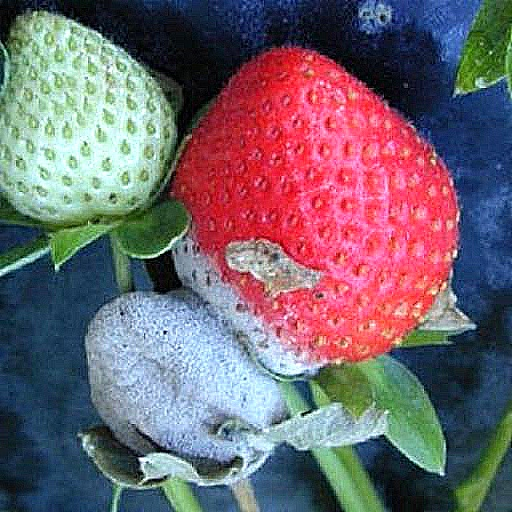Gray Mold: (123, 20, 440, 225), (159, 132, 342, 288)
